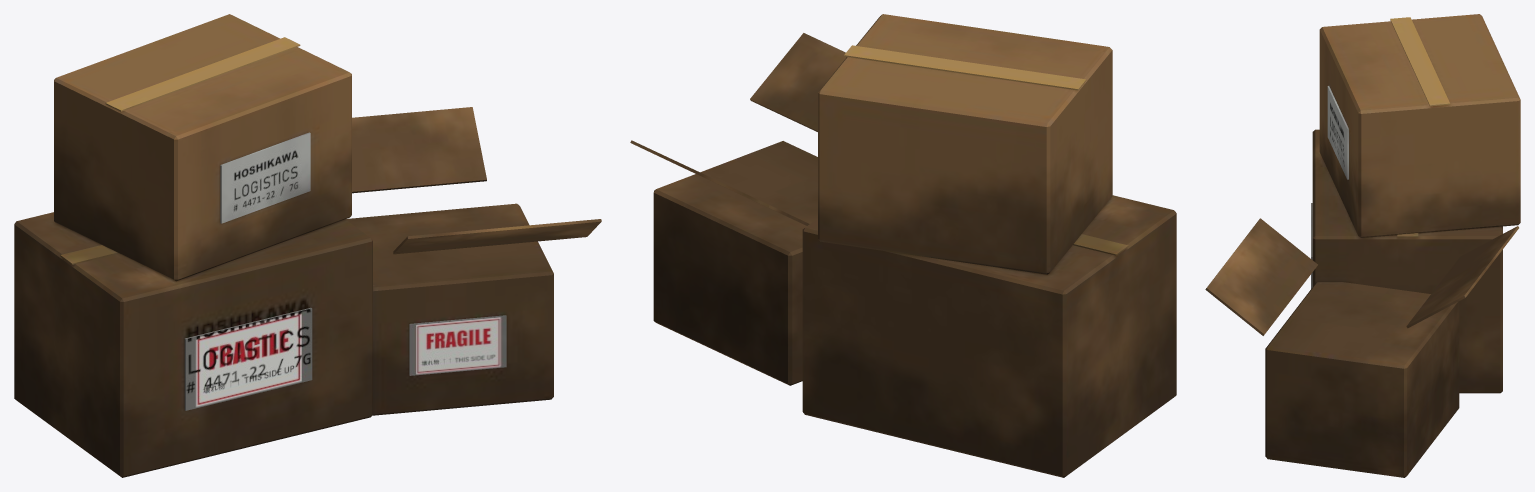
The model's file is cardboard_boxes.glb.
The picture shows the model from 3 angles, left to right: view 1: azimuth 30°, elevation 25°; view 2: azimuth 150°, elevation 25°; view 3: azimuth 270°, elevation 25°; orthographic projection. The views are drawn at different scales.
Visible parts, largest first — view 1: cardboard_boxes; view 2: cardboard_boxes; view 3: cardboard_boxes.
Part boxes in pixels (x1,y1,x2,y2): cardboard_boxes: [14, 14, 601, 477]; cardboard_boxes: [630, 14, 1176, 477]; cardboard_boxes: [1205, 14, 1520, 477].
Size of what is drawn, in the model's own units: 1.11 by 0.763 by 0.7625.
Materials: 1 (1 with a texture image).
